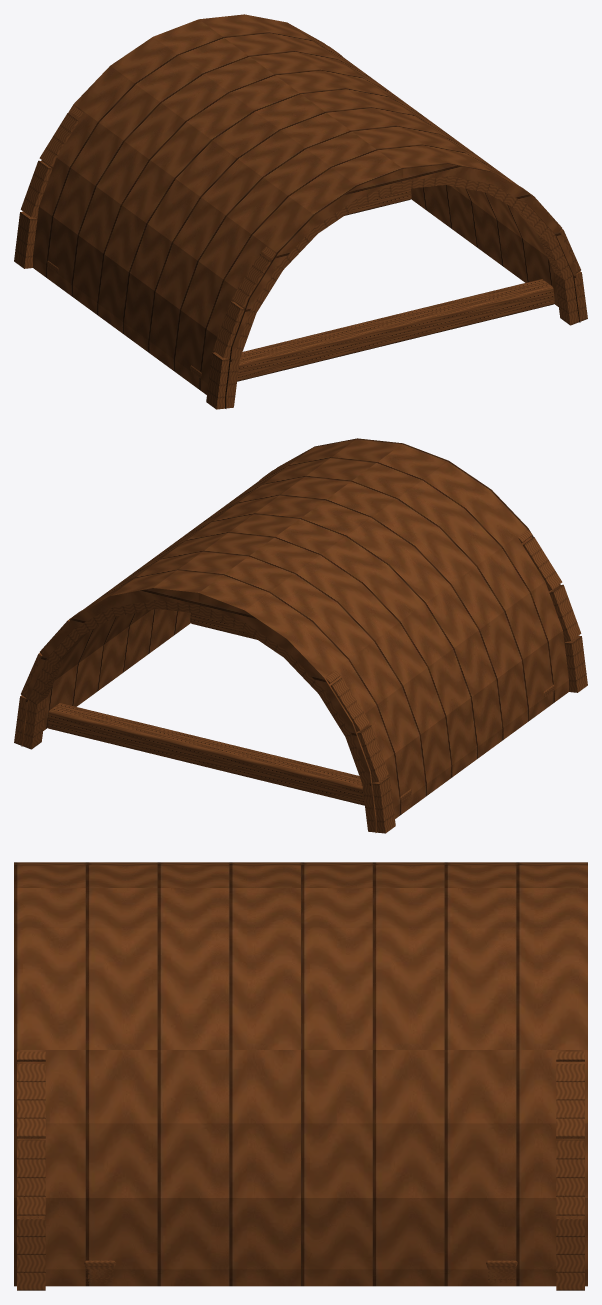
The model's file is modular-survival-base-builder-roof-barrel-vault-5e5c04aa__24178.glb.
3 views of the same model, one above another, from view 1: azimuth 30°, elevation 25°; view 2: azimuth 150°, elevation 25°; view 3: azimuth 270°, elevation 25° (orthographic). The views are drawn at different scales.
Parts seen in each view (by area): view 1: roof-barrel-vault; view 2: roof-barrel-vault; view 3: roof-barrel-vault.
Part boxes in pixels (x1,y1,x2,y2): roof-barrel-vault: (14, 14, 587, 409); roof-barrel-vault: (14, 438, 587, 833); roof-barrel-vault: (14, 862, 587, 1290).
Bounding box in the file's own units: 2.1 × 1.07 × 2.
1 material, 1 textured.
